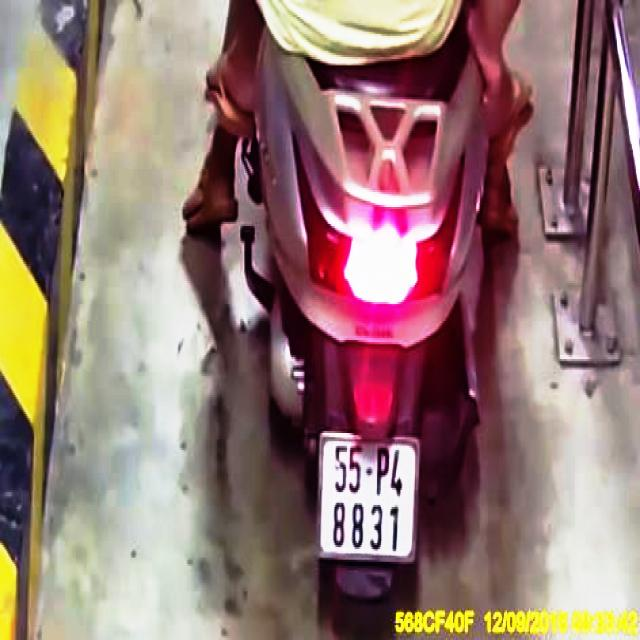license_plate: (321, 439, 418, 563)
